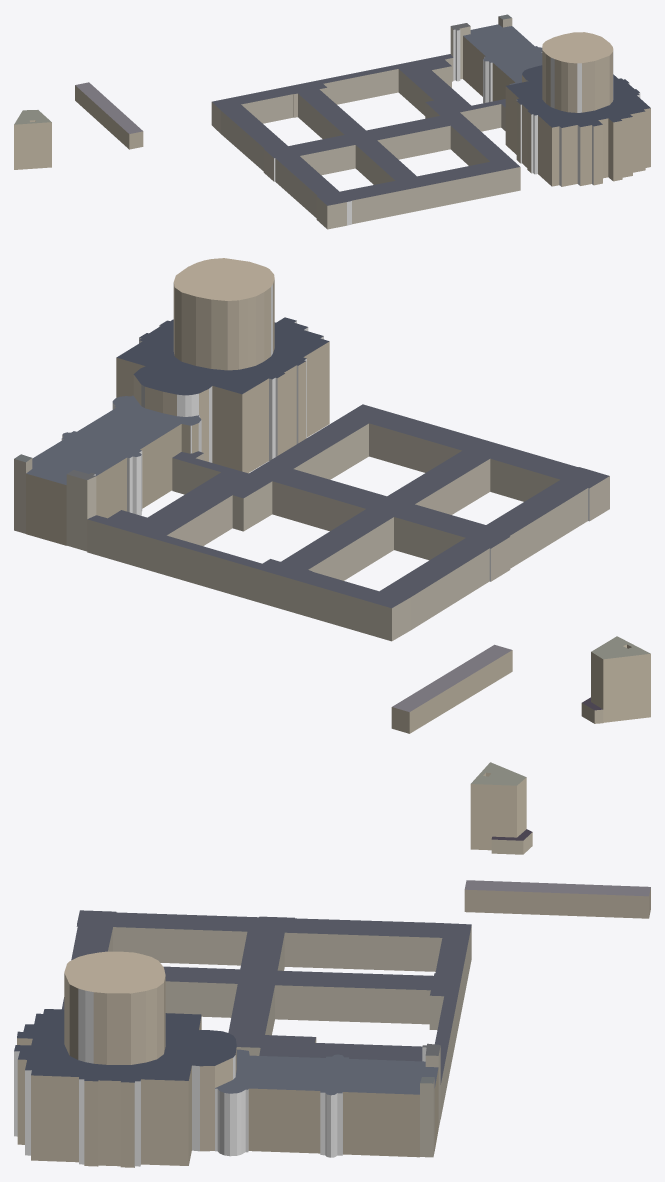
The picture shows the model from 3 angles, top to bottom: view 1: azimuth 30°, elevation 25°; view 2: azimuth 150°, elevation 25°; view 3: azimuth 270°, elevation 25°; orthographic projection. The views are drawn at different scales.
Parts seen in each view (by area): view 1: tuile; view 2: tuile; view 3: tuile.
Part boxes in pixels (bbox=[...]): tuile: bbox=[14, 14, 650, 229]; tuile: bbox=[14, 258, 650, 733]; tuile: bbox=[14, 762, 650, 1167].
Size of the model in its own units: 260 by 56.66 by 203.
